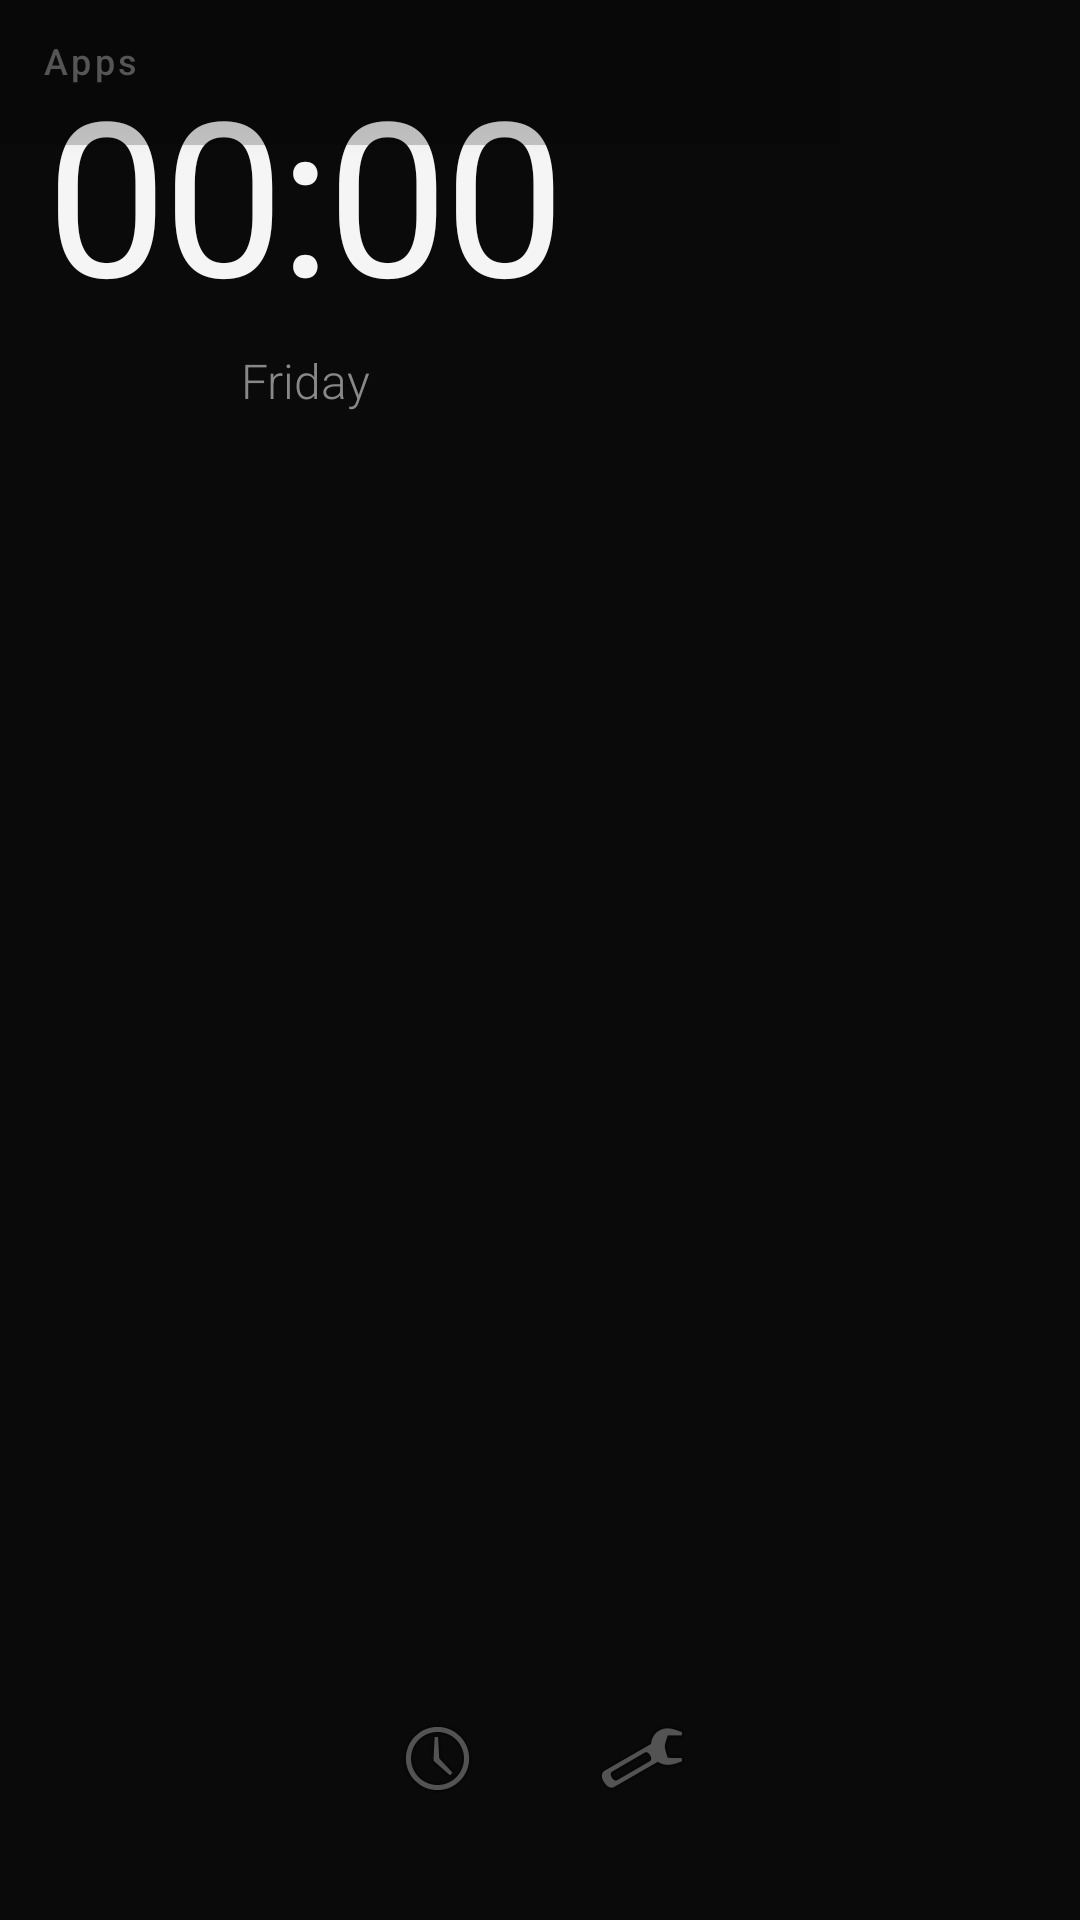

Icon click points for this 1080 × 1920 phone screenshot, format point (x, y):
preferences: point (642, 1758)
recent history: point (437, 1758)
